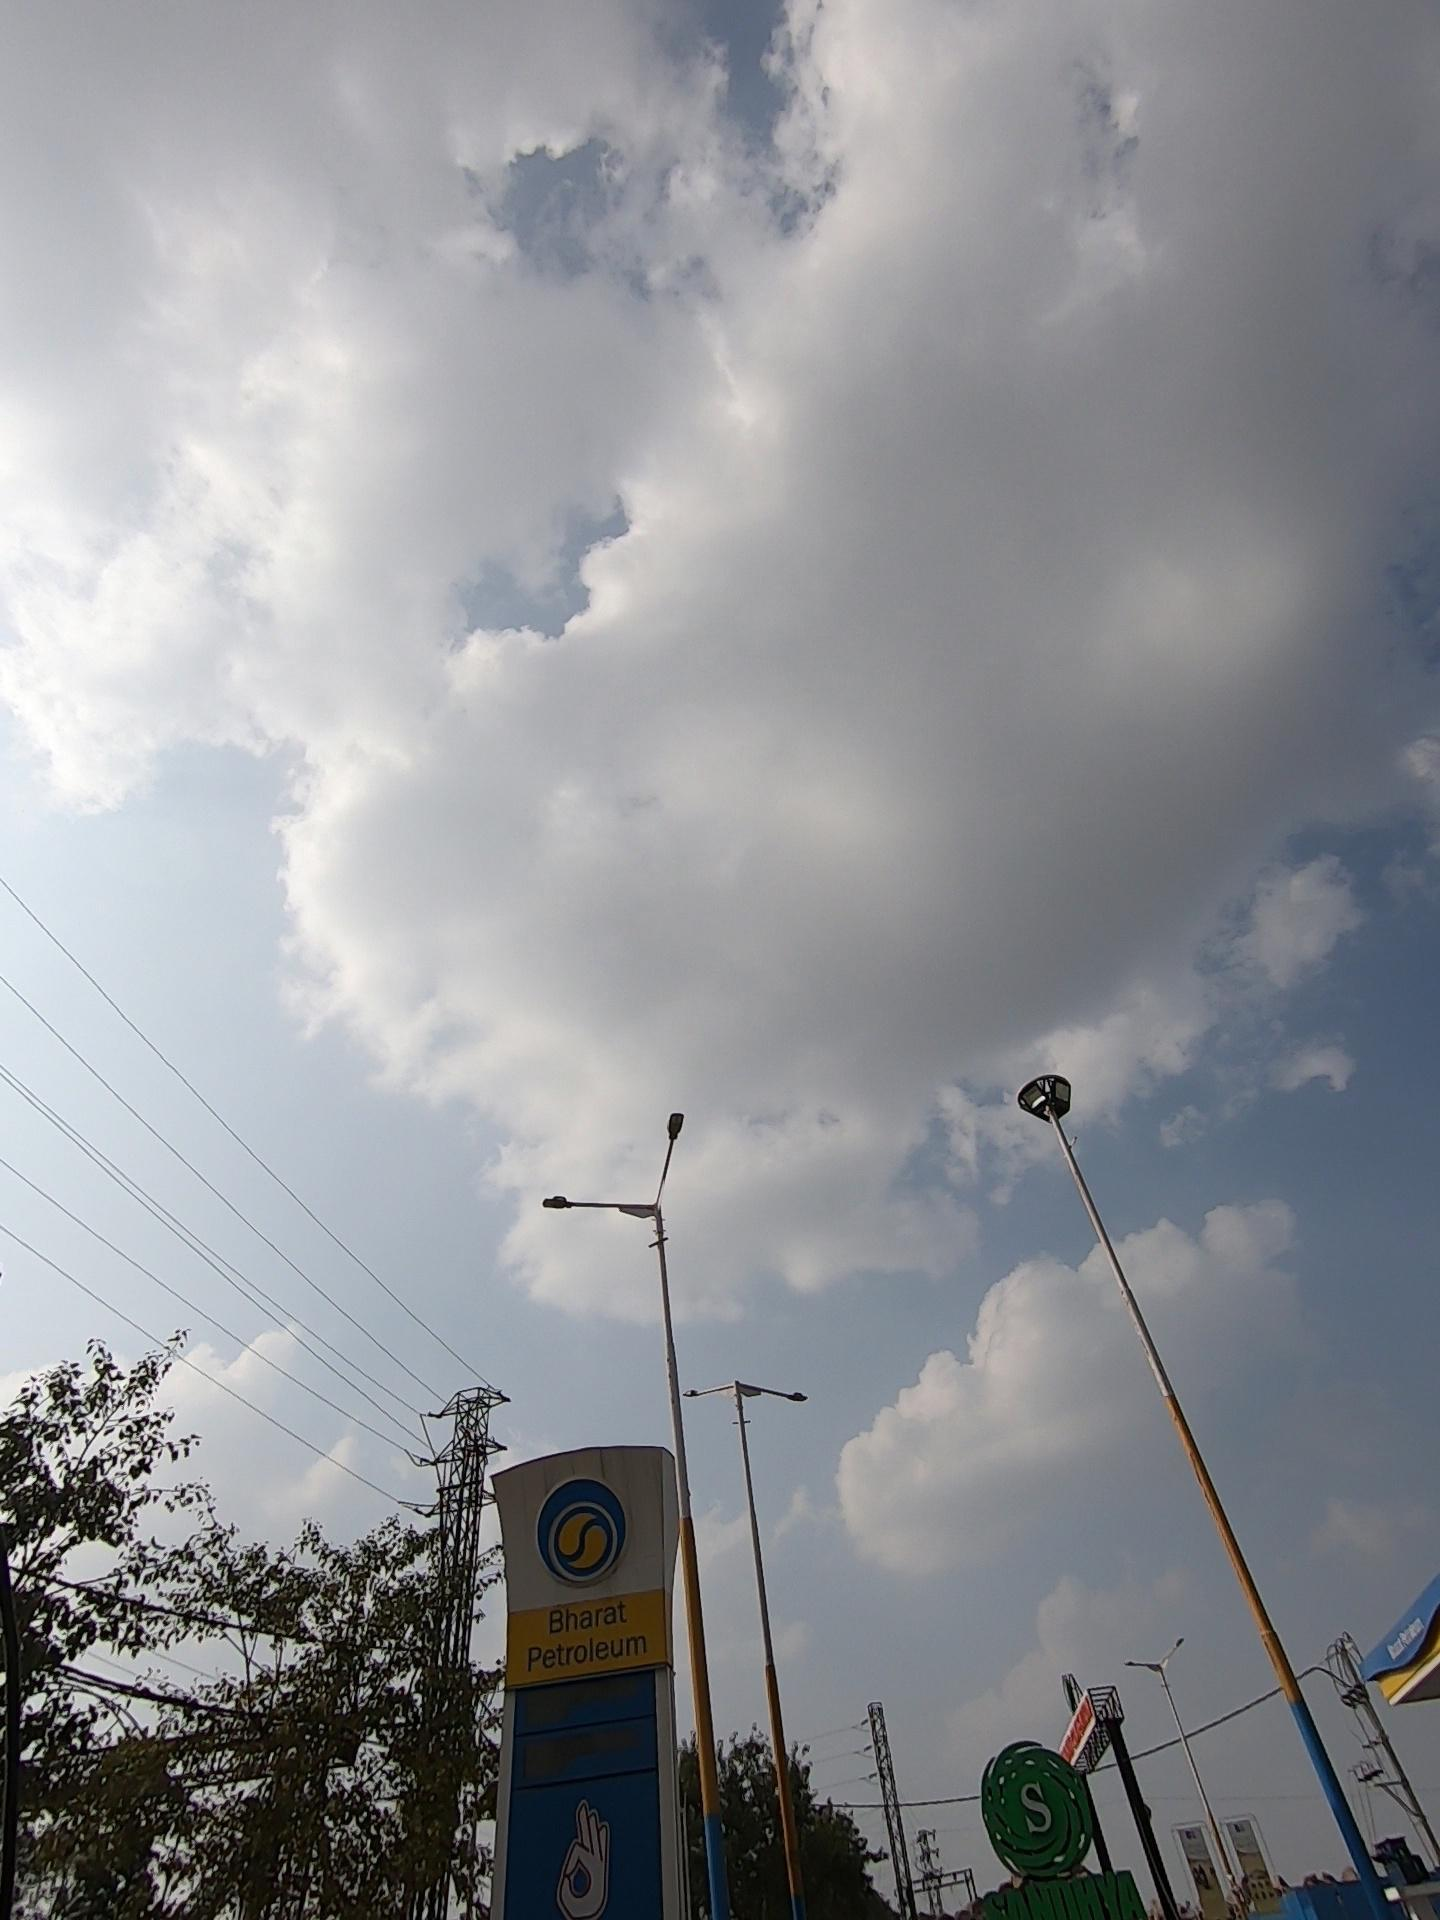off: (473, 1061, 818, 1274), (670, 1344, 894, 1471), (980, 1054, 1112, 1135)
